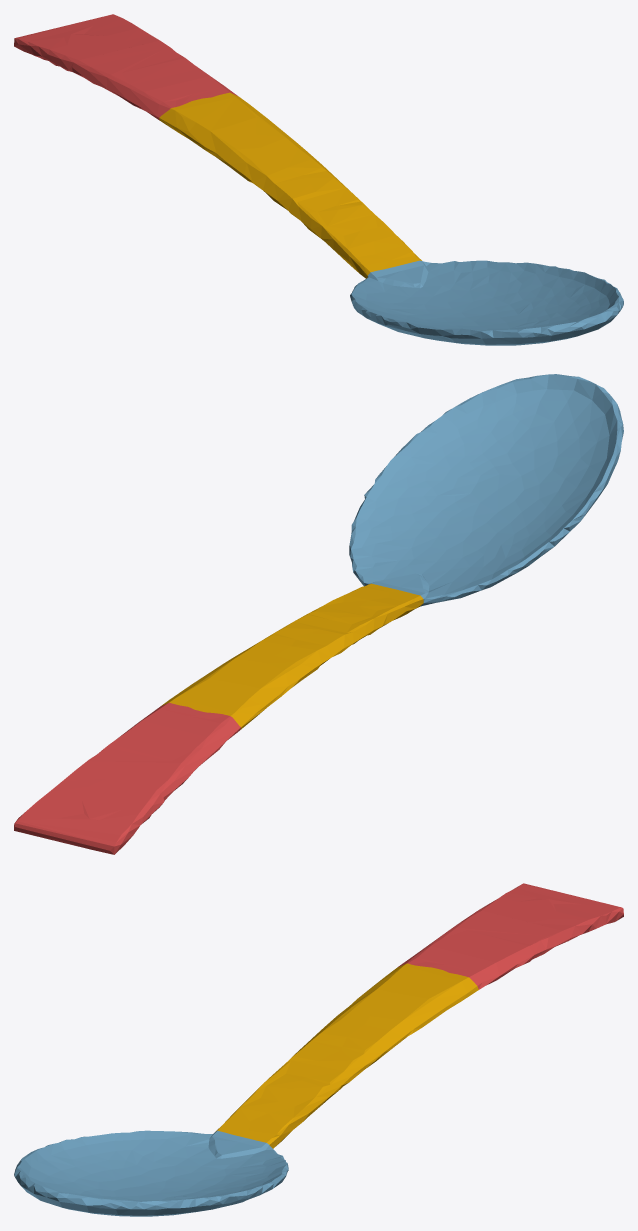
The model's file is mode_2_3pcs.glb.
3 renders of one model, top to bottom at view 1: azimuth 30°, elevation 25°; view 2: azimuth 150°, elevation 25°; view 3: azimuth 330°, elevation 25°, orthographic.
Parts seen in each view (by area): view 1: piece_2.obj, piece_0.obj, piece_1.obj; view 2: piece_2.obj, piece_1.obj, piece_0.obj; view 3: piece_2.obj, piece_0.obj, piece_1.obj.
Part boxes in pixels (<box>): piece_2.obj: <box>350,260,623,345</box>; piece_0.obj: <box>159,92,421,278</box>; piece_1.obj: <box>14,14,238,120</box>; piece_2.obj: <box>349,374,623,606</box>; piece_1.obj: <box>14,702,240,854</box>; piece_0.obj: <box>161,583,423,729</box>; piece_2.obj: <box>14,1130,288,1216</box>; piece_0.obj: <box>215,963,478,1148</box>; piece_1.obj: <box>398,883,623,989</box>.
Bounding box in the file's own units: 0.2204 × 0.0967 × 1.
